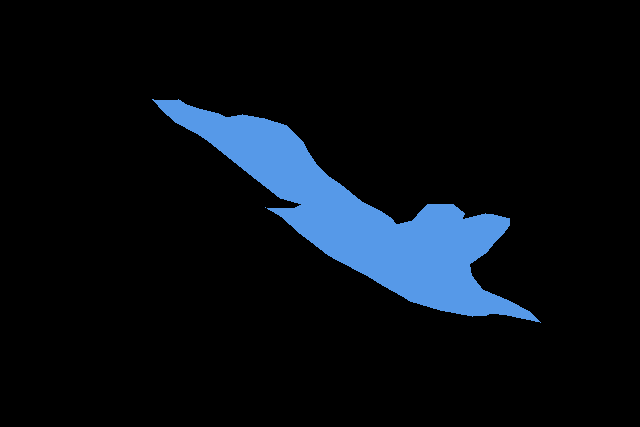Airplane: (152, 99, 540, 323)
